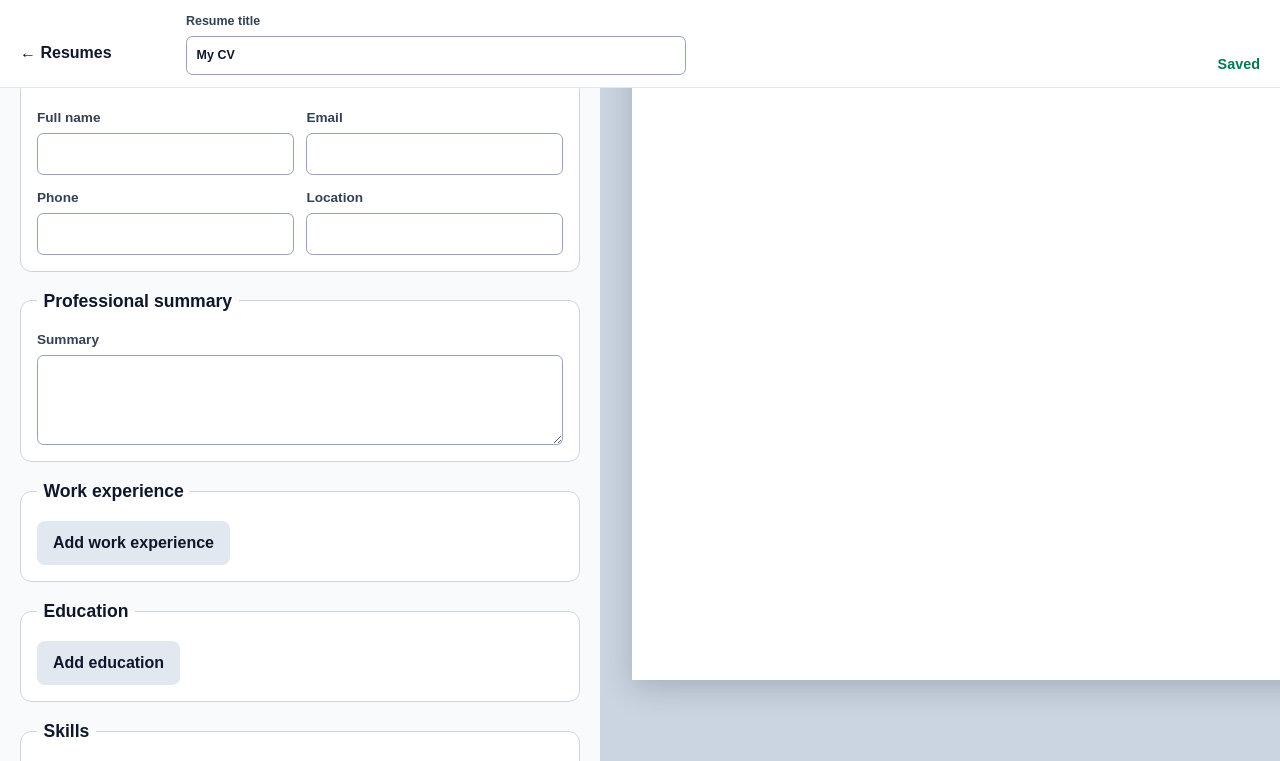
Test case: resume editor and autosave › preserves failed local changes and allows retry
(page scrolled)
Type "Latest local summary" into the text box labelled "Summary" at (300, 400), box [37,355,563,445]
Wait 700 ms
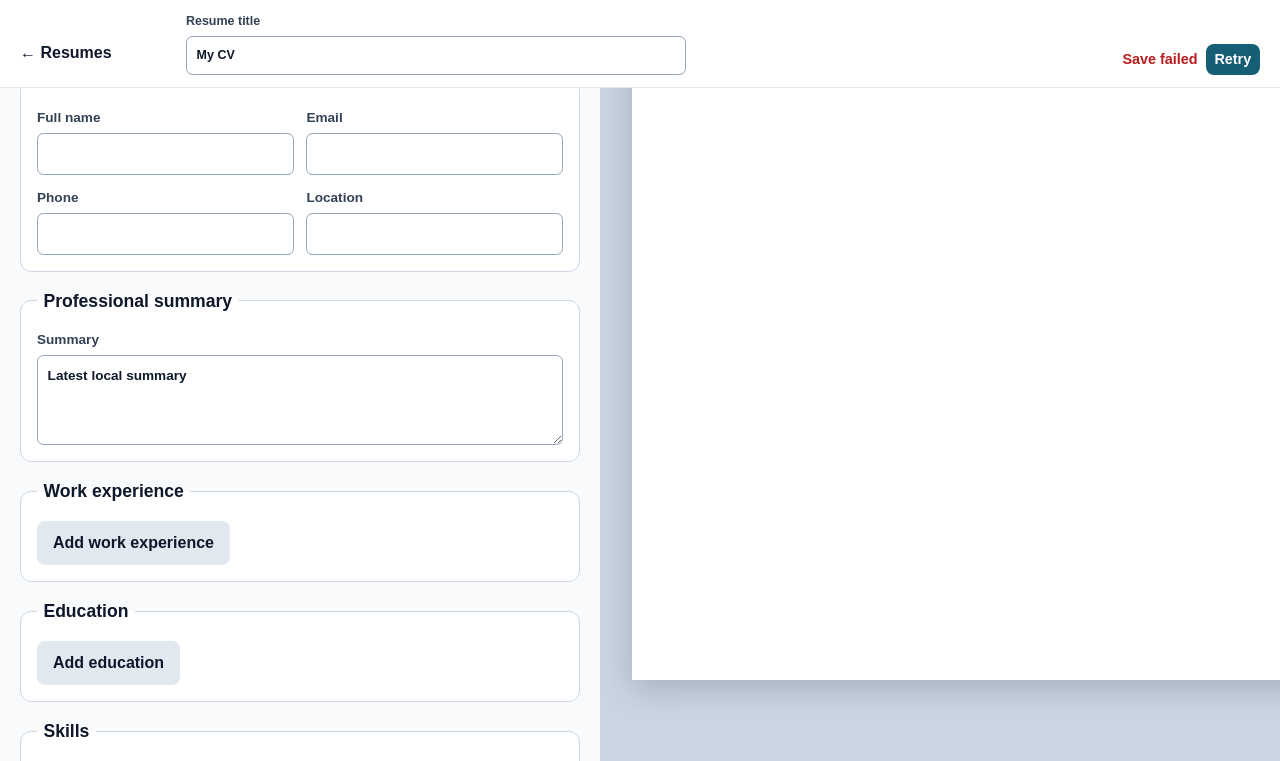
expect the message shows "Save failed": met, box [1122,51,1198,67]
Click the button "Retry" at (1233, 60), box [1206,44,1260,75]
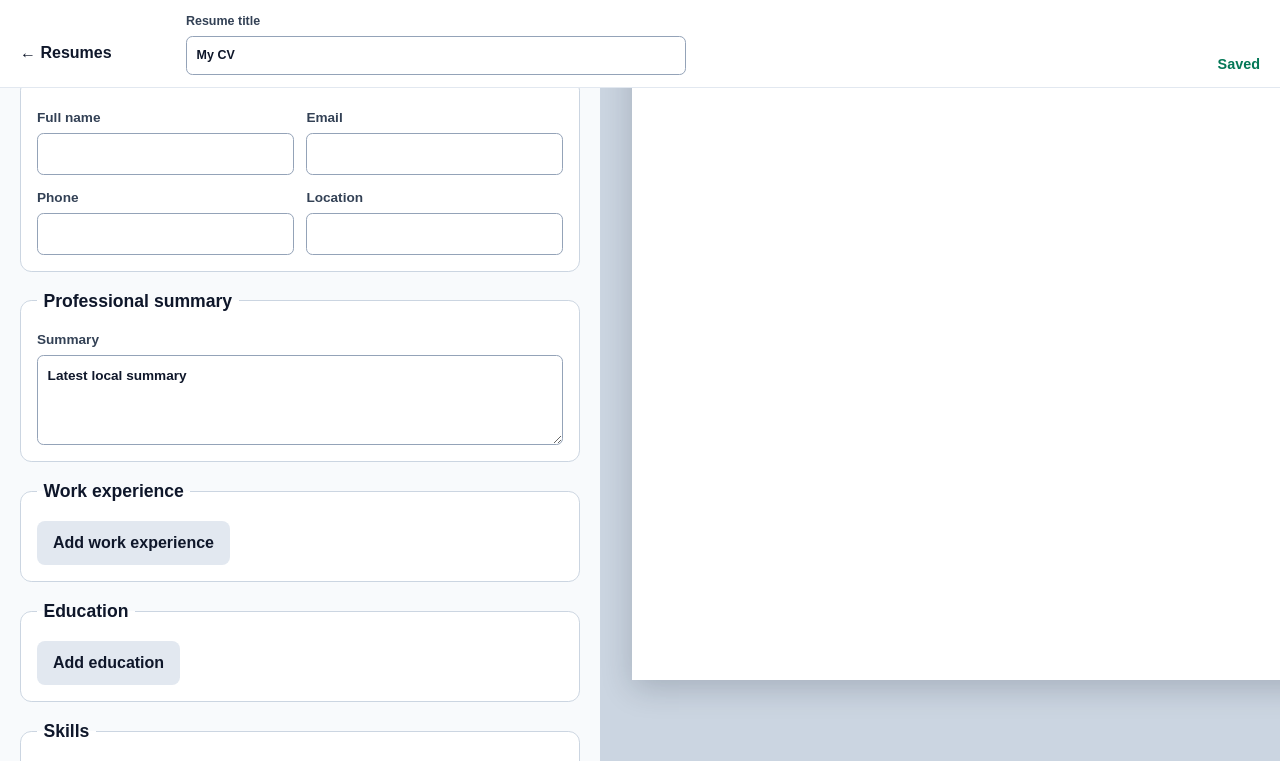
expect the message reads "Saved": met, box [1218,56,1260,72]
